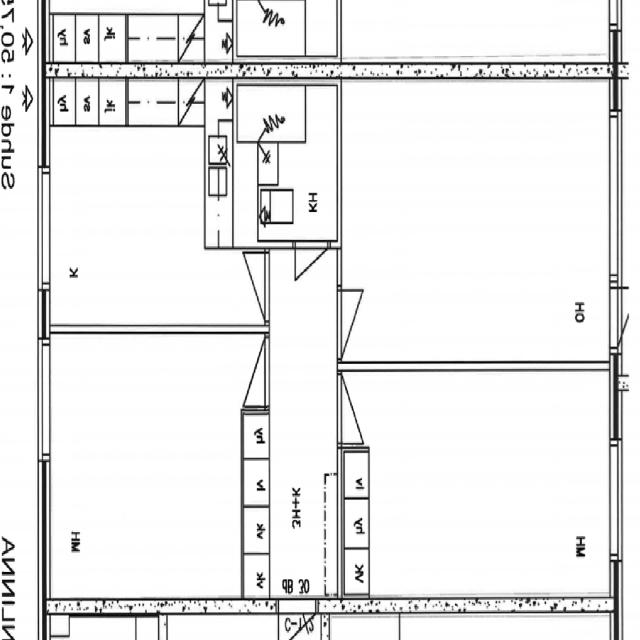door: (225, 253, 270, 321), (226, 338, 270, 407), (337, 375, 380, 443), (337, 289, 380, 357), (296, 241, 328, 306), (610, 288, 640, 350)
